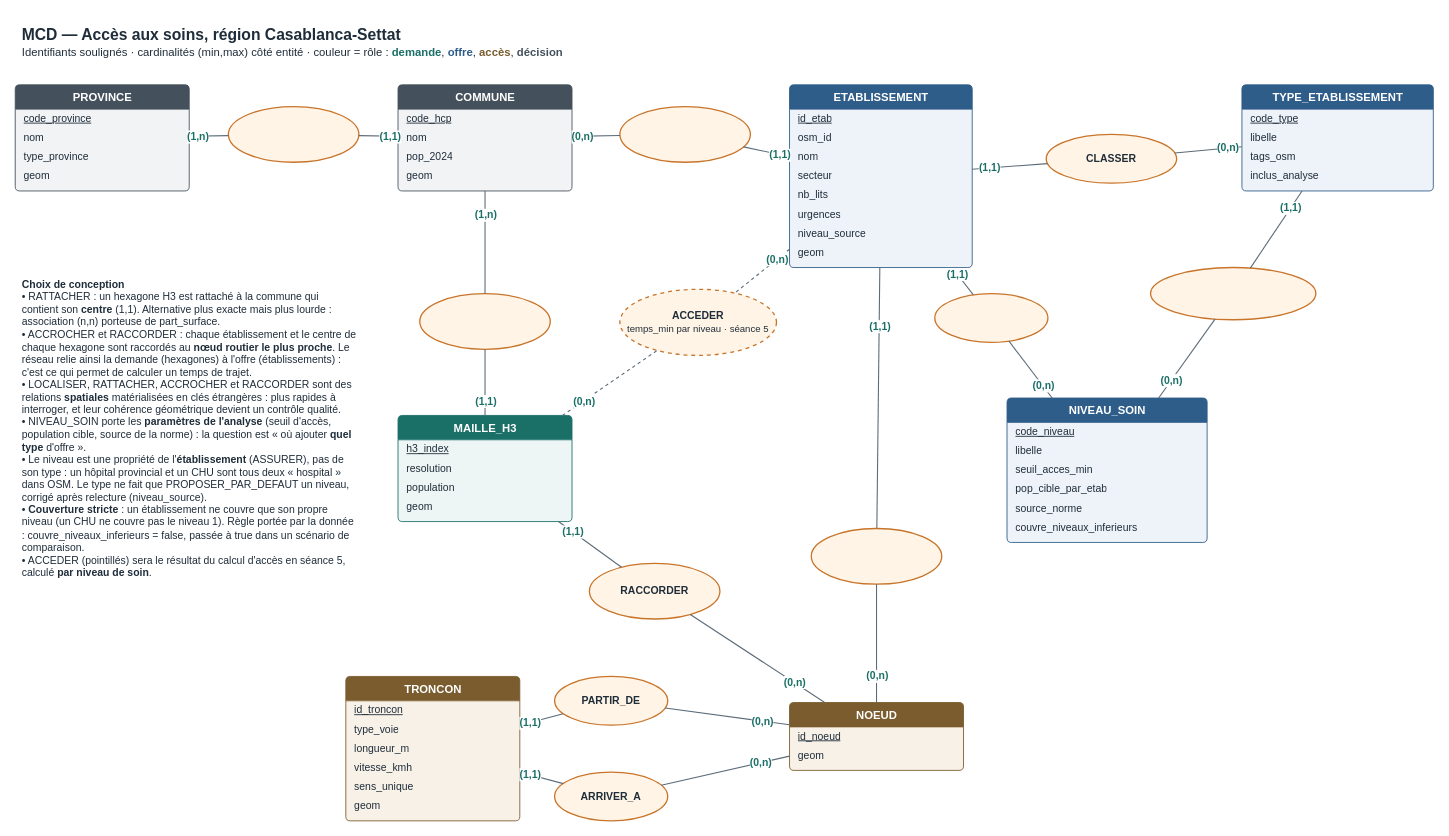
This 1449x836 diagram has some shape labels left out. Each missing label, with the centre of its shape:
ACCROCHER: pixel 876 555
APPARTENIR: pixel 293 134
ASSURER: pixel 991 318
LOCALISER: pixel 685 134
PROPOSER_PAR_DEFAUT: pixel 1233 293
RATTACHER: pixel 485 321
